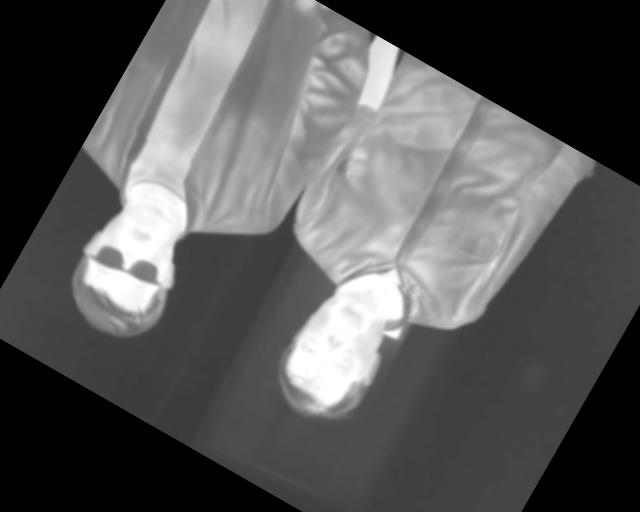face: (50, 183, 207, 354), (259, 272, 410, 439)
